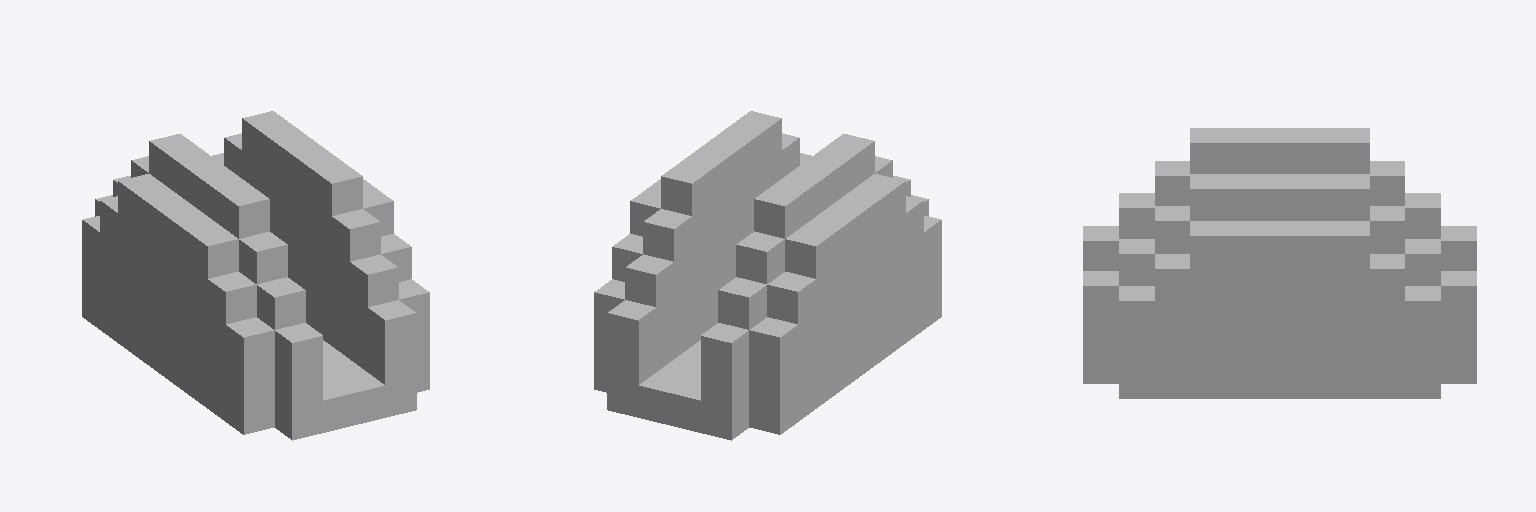
The model's file is Switch.obj.
3 renders of one model, left to right at view 1: azimuth 30°, elevation 25°; view 2: azimuth 150°, elevation 25°; view 3: azimuth 270°, elevation 25°, orthographic.
Parts seen in each view (by area): view 1: Switch; view 2: Switch; view 3: Switch.
Boxes of the visible parts, x1=… form: Switch: x1=82, y1=111, x2=429, y2=440; Switch: x1=594, y1=111, x2=941, y2=440; Switch: x1=1083, y1=128, x2=1476, y2=398.
Bounding box in the file's own units: 6 × 6 × 11.